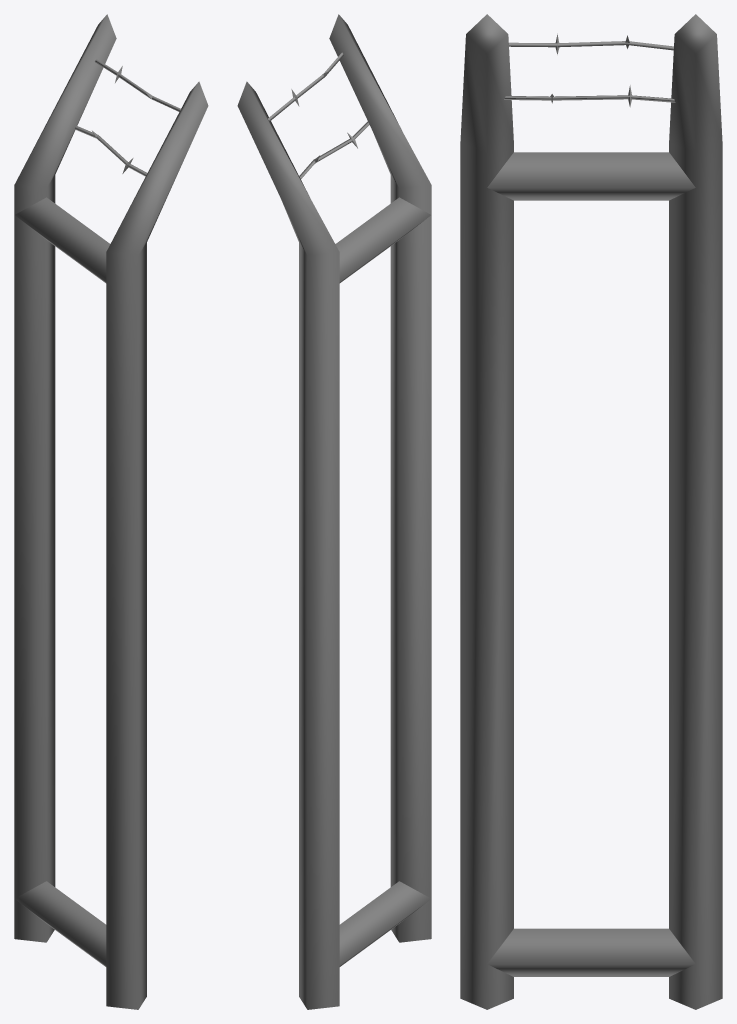
File: SW_ENV_WireFenceSlim.fbx
3 renders of one model, left to right at view 1: azimuth 30°, elevation 25°; view 2: azimuth 150°, elevation 25°; view 3: azimuth 270°, elevation 25°, orthographic. The views are drawn at different scales.
Visible parts, largest first — view 1: SW_ENV_WireFenceSlim; view 2: SW_ENV_WireFenceSlim; view 3: SW_ENV_WireFenceSlim.
Boxes of the visible parts, <box> form: SW_ENV_WireFenceSlim: <box>14,14,208,1009</box>; SW_ENV_WireFenceSlim: <box>237,14,431,1009</box>; SW_ENV_WireFenceSlim: <box>460,14,722,1009</box>.
Size of the model in its own units: 0.2576 by 2.39 by 0.5546.
